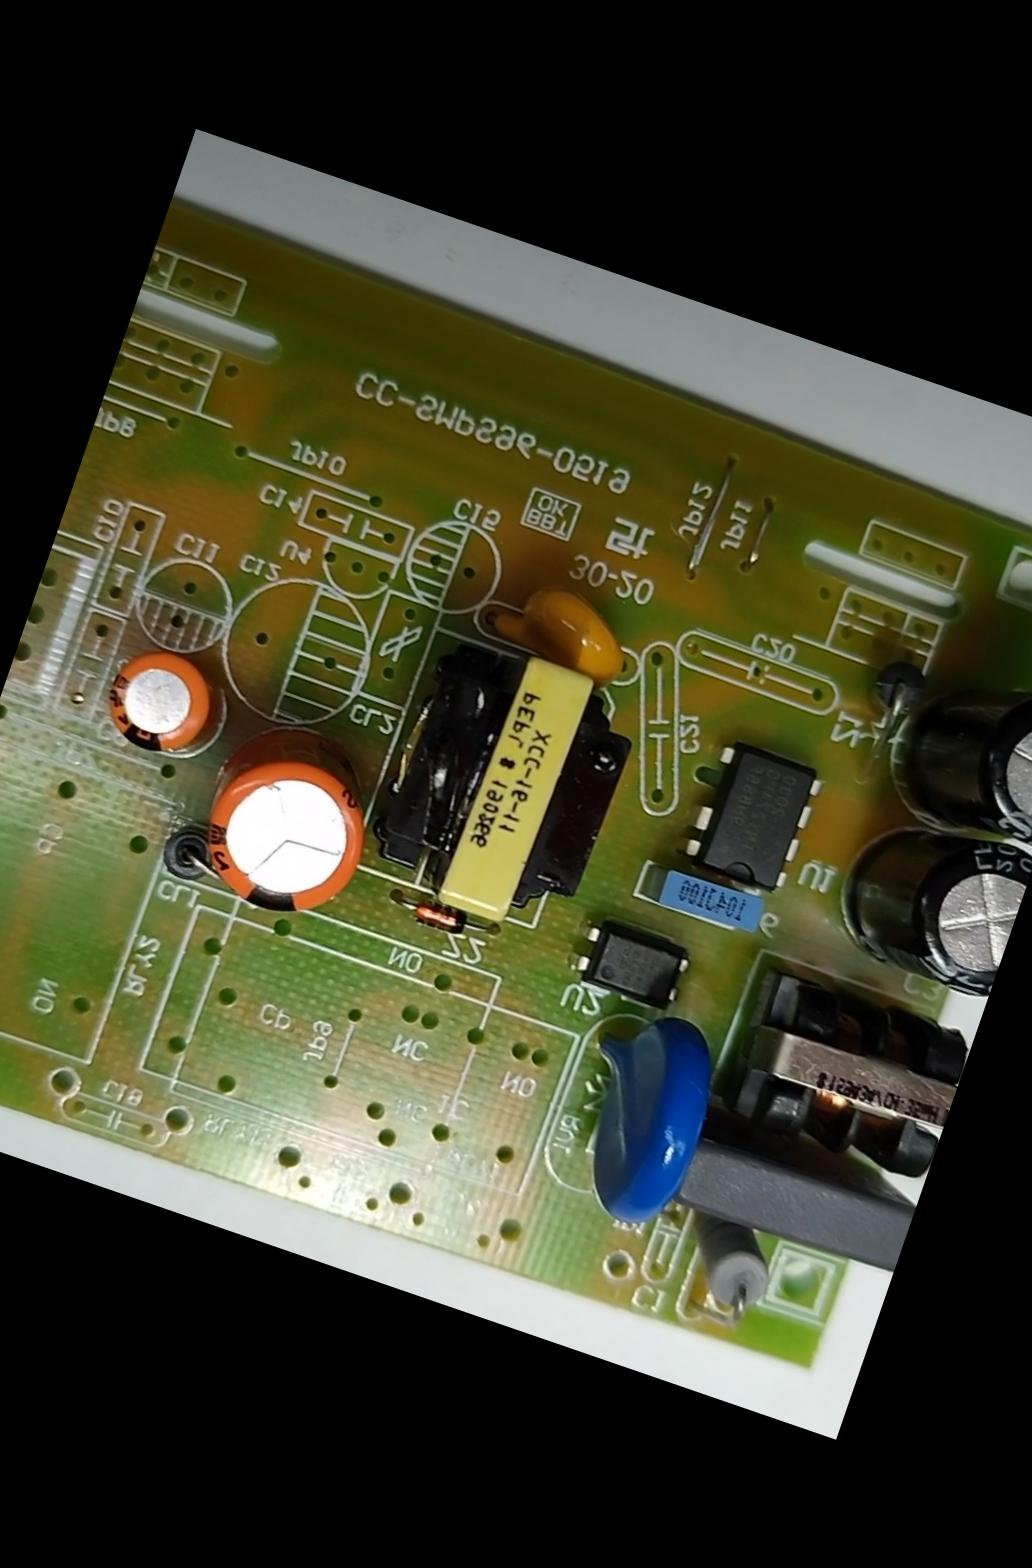Cap1: (184, 736, 385, 935)
Cap2: (92, 634, 223, 769)
Cap3: (827, 798, 1031, 1004)
Cap4: (897, 650, 1031, 846)
MOSFET: (680, 736, 829, 901)
Mov: (554, 997, 735, 1238)
Resistor: (671, 1215, 784, 1320)
Transformer: (358, 624, 654, 951), (721, 965, 974, 1189)
